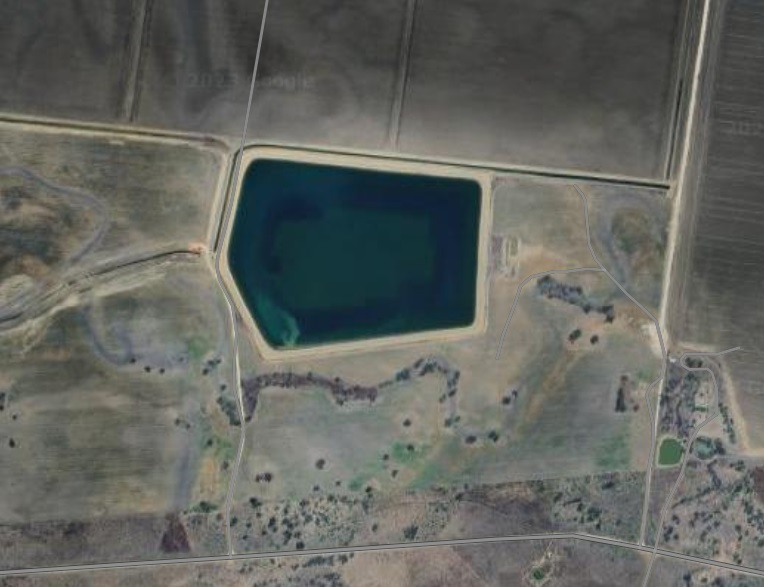reservoir: (192, 131, 507, 379)
